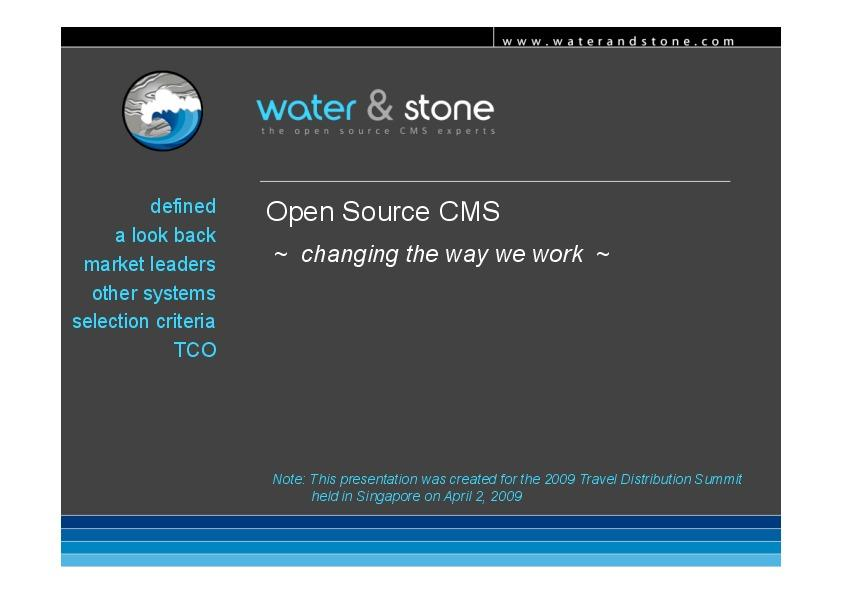subtitle: (68, 176, 231, 380), (267, 465, 755, 522)
title: (258, 193, 627, 277), (250, 82, 510, 155)
